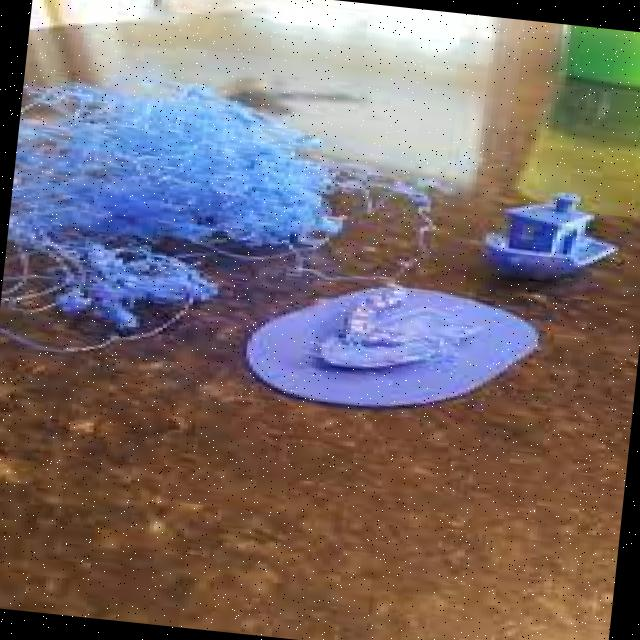spaghetti: (0, 59, 351, 362)
